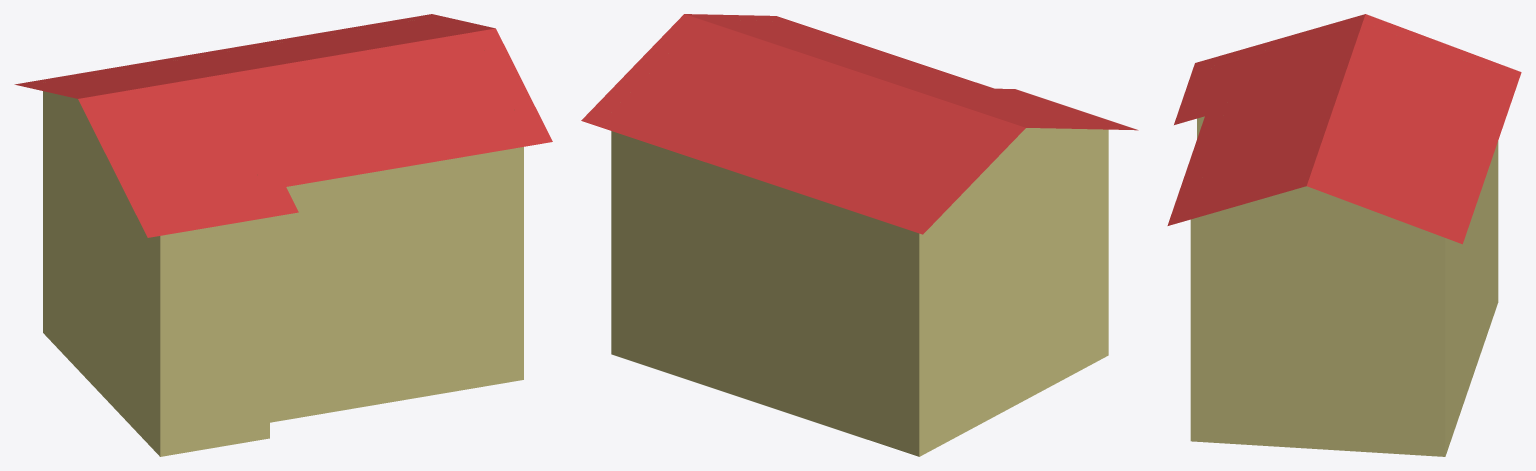
3 renders of one model, left to right at view 1: azimuth 30°, elevation 25°; view 2: azimuth 150°, elevation 25°; view 3: azimuth 270°, elevation 25°, orthographic. The views are drawn at different scales.
Visible parts, largest first — view 1: group_5, group_3, group_4; view 2: group_5, group_3, group_4; view 3: group_5, group_3, group_4.
Part boxes in pixels (bbox=[...]): group_5: bbox=[43, 91, 523, 456]; group_3: bbox=[44, 19, 523, 237]; group_4: bbox=[14, 14, 552, 237]; group_5: bbox=[611, 128, 1108, 456]; group_3: bbox=[611, 14, 1107, 214]; group_4: bbox=[581, 14, 1138, 234]; group_5: bbox=[1190, 116, 1498, 456]; group_3: bbox=[1190, 14, 1498, 227]; group_4: bbox=[1167, 14, 1521, 244].
Bounding box in the file's own units: 16.69 × 13.01 × 10.98.
